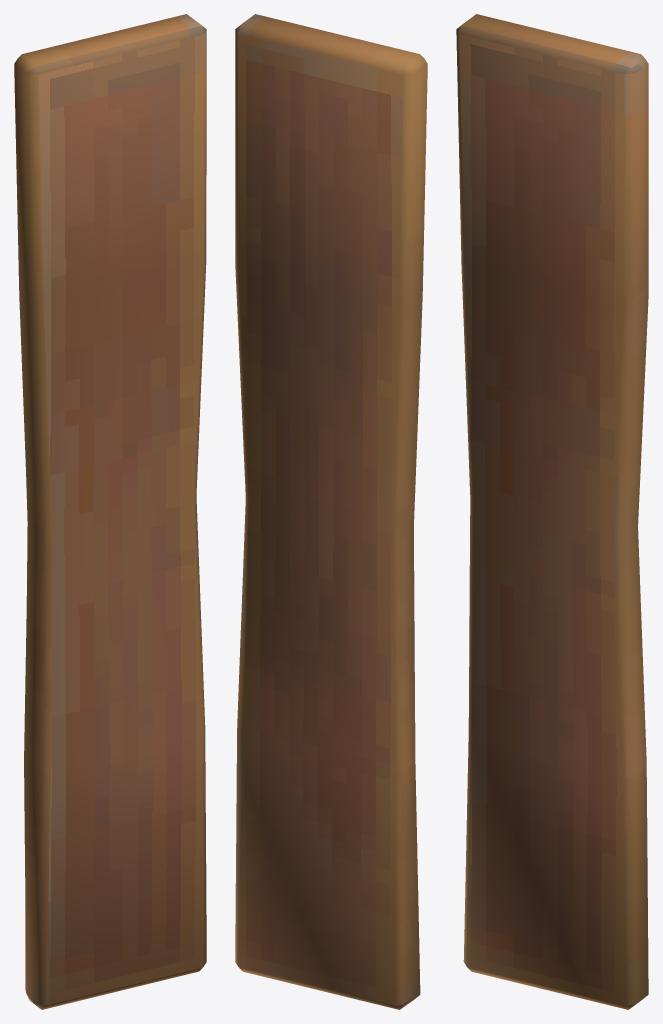
The model's file is item_plank.glb.
The picture shows the model from 3 angles, left to right: view 1: azimuth 30°, elevation 25°; view 2: azimuth 150°, elevation 25°; view 3: azimuth 330°, elevation 25°; orthographic projection.
Parts seen in each view (by area): view 1: WoodPlank01; view 2: WoodPlank01; view 3: WoodPlank01.
Boxes of the visible parts, x1,y1,x2,y2 form: WoodPlank01: (14,14,206,1009); WoodPlank01: (235,14,427,1009); WoodPlank01: (456,14,648,1009).
Bounding box in the file's own units: 0.3077 × 1.55 × 0.0641.
Materials: 1 (1 with a texture image).
